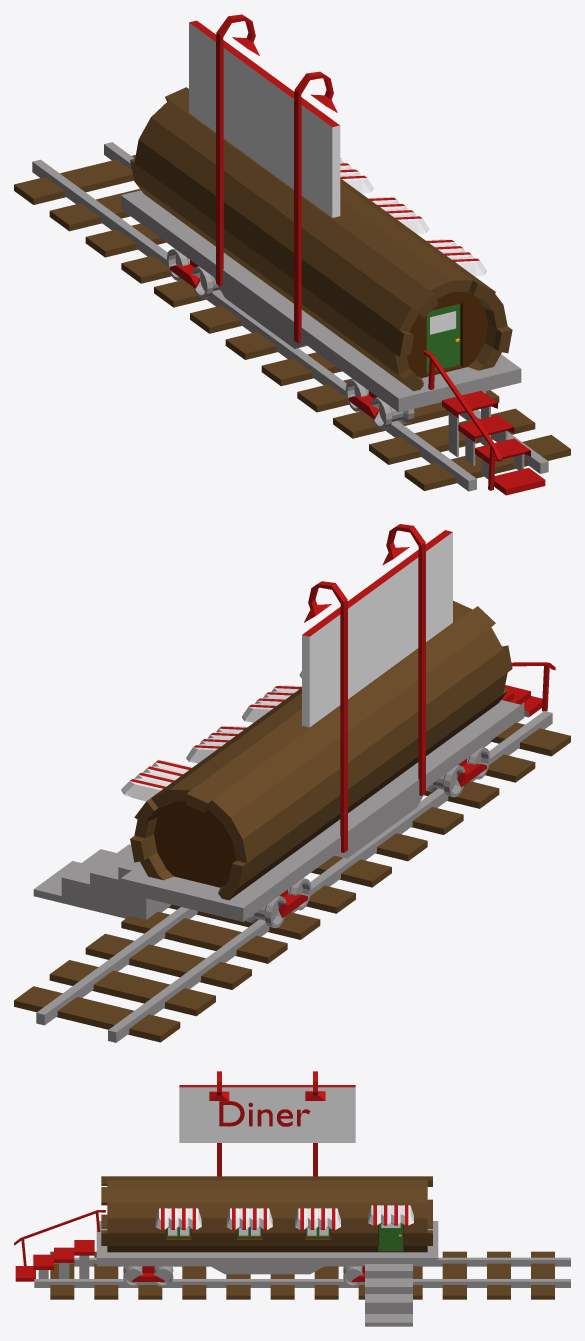
Rendered from greasyDinner01.glb.
The picture shows the model from 3 angles, top to bottom: view 1: azimuth 30°, elevation 25°; view 2: azimuth 150°, elevation 25°; view 3: azimuth 270°, elevation 25°; orthographic projection. The views are drawn at different scales.
Visible parts, largest first — view 1: dinerWood; view 2: dinerWood; view 3: dinerWood.
Boxes of the visible parts, box(x1,y1,x2,y2) form: dinerWood: box(14, 14, 570, 495); dinerWood: box(14, 524, 570, 1042); dinerWood: box(14, 1071, 570, 1326).
Bounding box in the file's own units: 4.3 × 5.26 × 13.9.
1 material, 1 textured.
